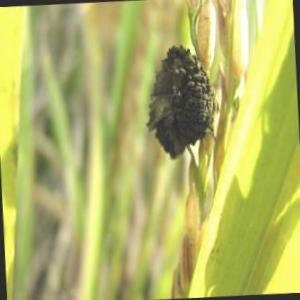Leaf_Scald: (162, 47, 210, 161)
